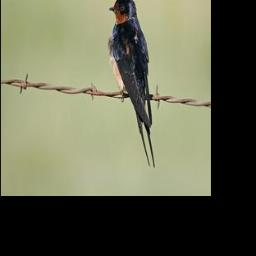Swallow: (108, 0, 158, 168)
